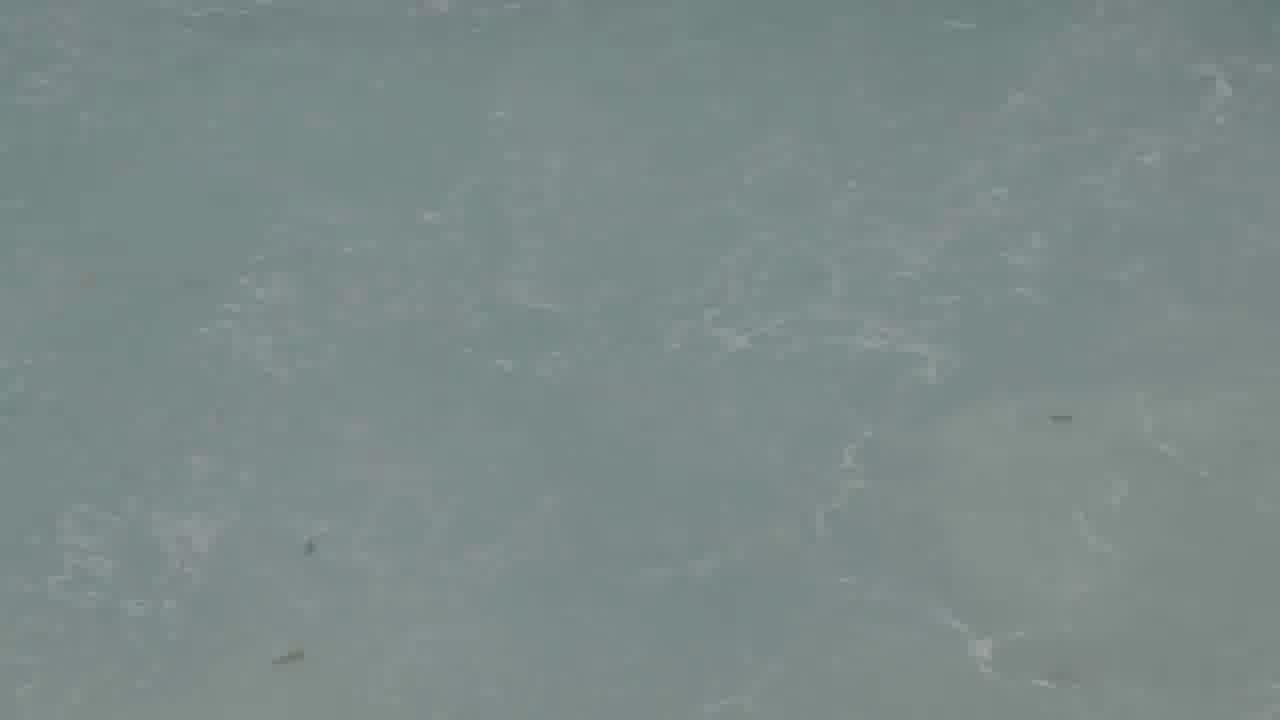human: (292, 533, 331, 568)
